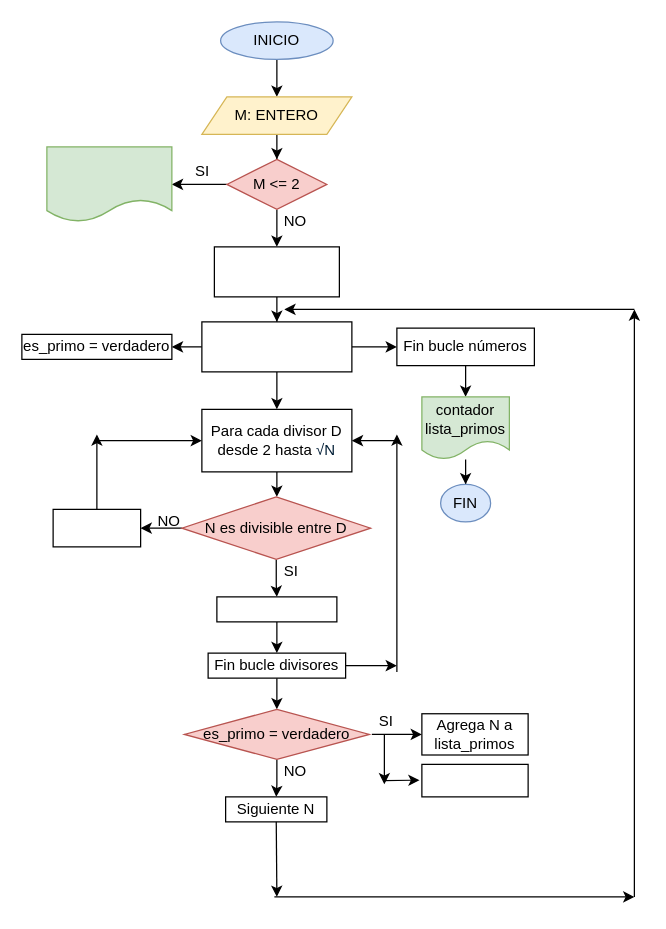
Image size: 666x929. Some labels were removed from this diagram. The box of each missing label's shape, as (x1, y1, x2, y2) in pixels:
"No hay primos menores a M": (46, 146, 172, 222)
contador = 0 lista_primos = [ ]: (213, 246, 339, 297)
es_primo = falso: (216, 596, 337, 622)
Incrementa contador en 1: (421, 763, 528, 797)
Para cada N desde 2 hasta M - 1: (201, 321, 352, 372)
Siguiente divisor: (52, 508, 141, 547)
